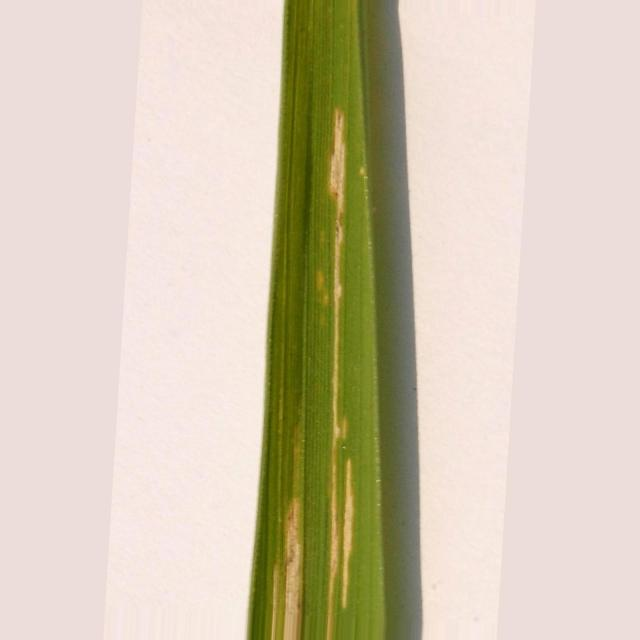Bacterial_Leaf_Blight: (328, 108, 346, 619), (270, 498, 302, 639), (341, 459, 354, 608), (360, 166, 366, 176)
